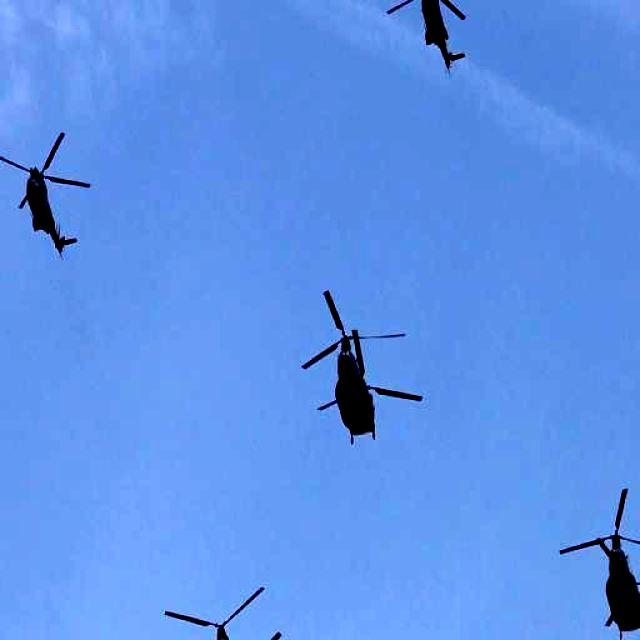drone: (295, 286, 425, 451), (556, 479, 640, 640), (0, 122, 92, 258), (385, 0, 484, 71), (161, 586, 286, 640)
